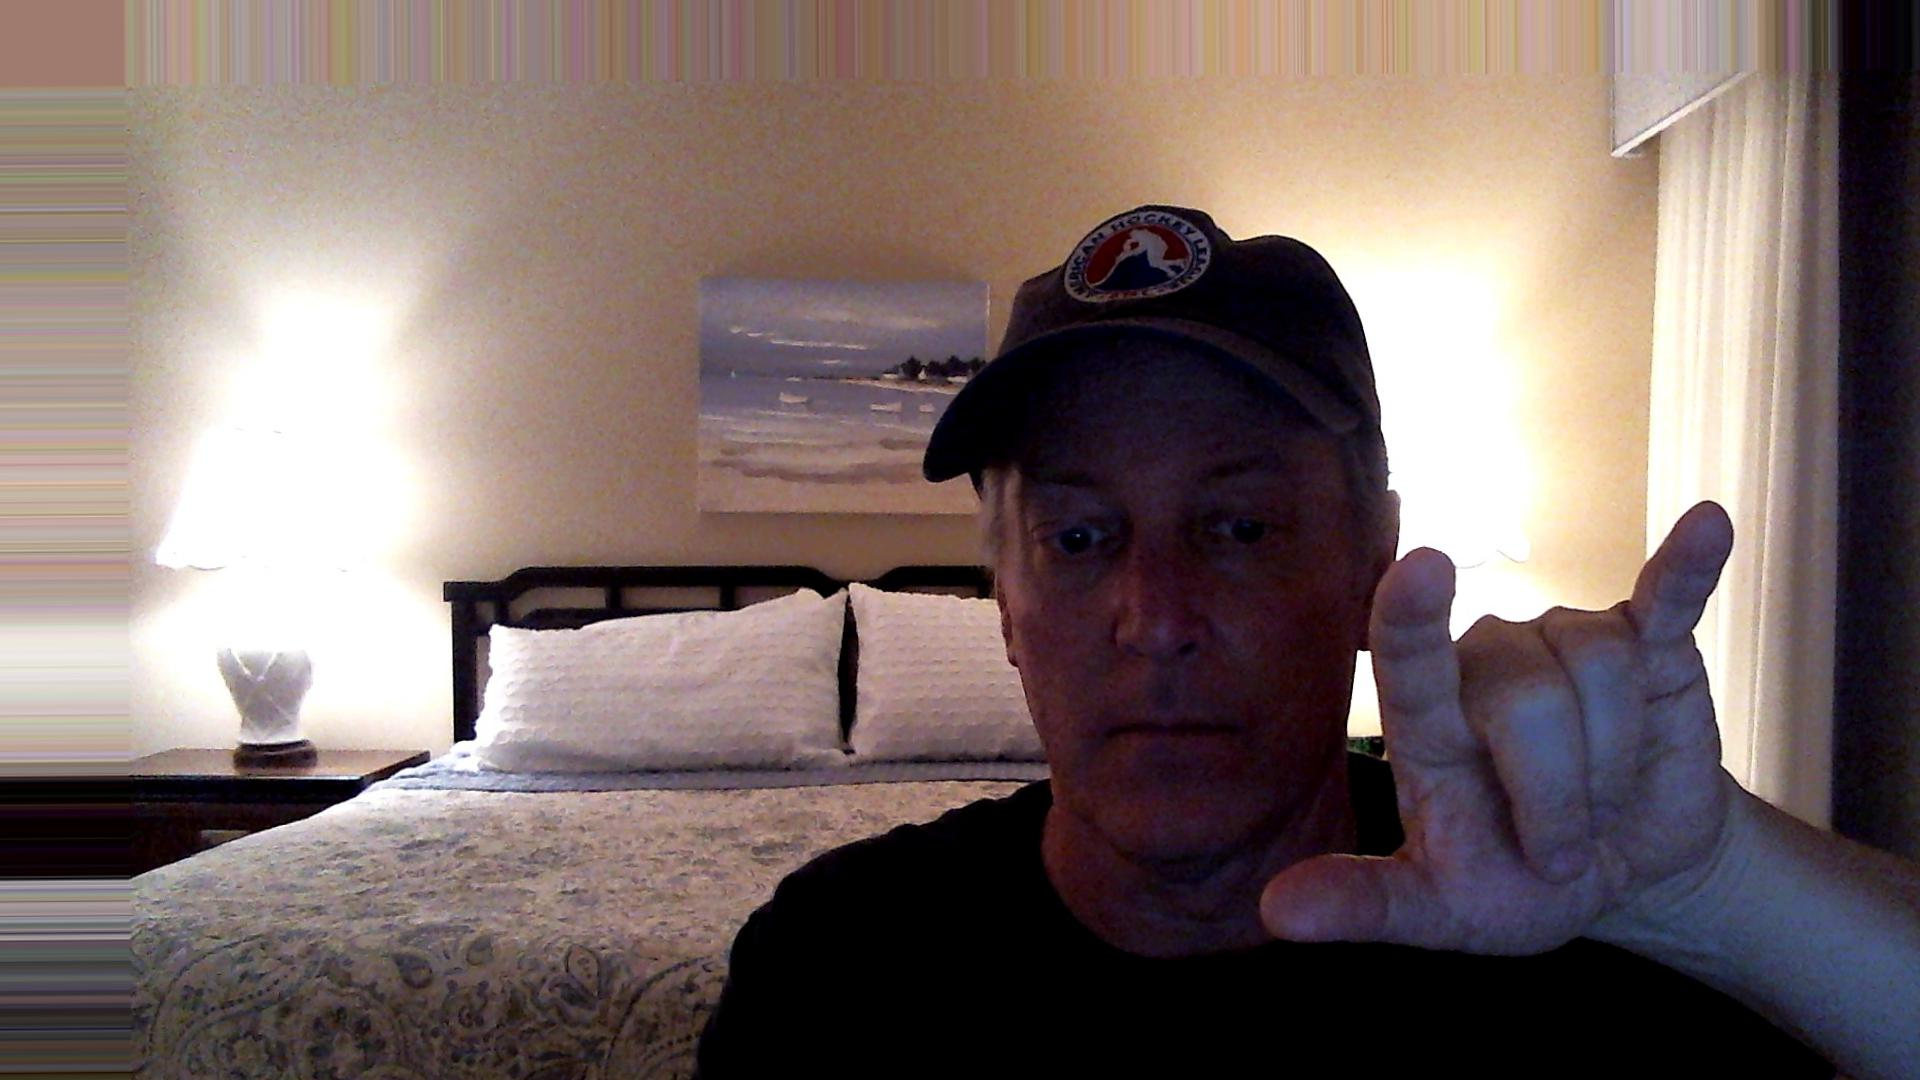I Love You: (1253, 495, 1774, 975)
